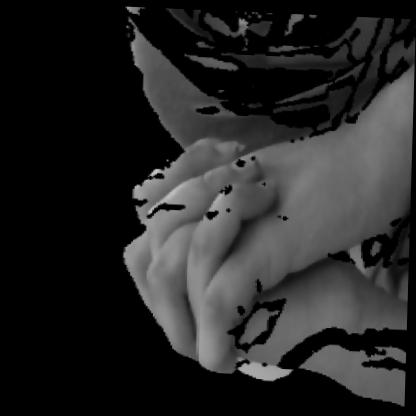prayer: (116, 107, 412, 408)
